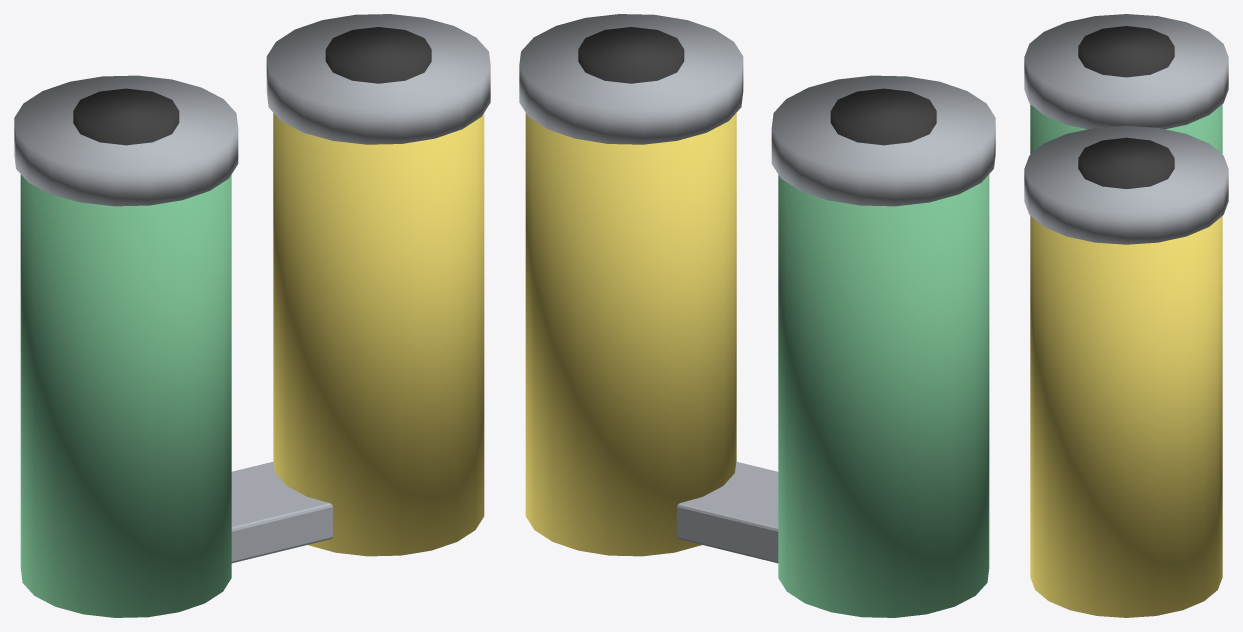
Rendered from trash_bin.glb.
The picture shows the model from 3 angles, left to right: view 1: azimuth 30°, elevation 25°; view 2: azimuth 150°, elevation 25°; view 3: azimuth 270°, elevation 25°; orthographic projection. The views are drawn at different scales.
Parts seen in each view (by area): view 1: bin_body0, bin_body1, bin_lid1, bin_lid0, bin_frame, bin_hole0, bin_hole1; view 2: bin_body0, bin_body1, bin_lid1, bin_lid0, bin_frame, bin_hole0, bin_hole1; view 3: bin_body1, bin_lid1, bin_lid0, bin_hole1, bin_hole0, bin_body0.
Part boxes in pixels (x1=…): bin_body0: x1=20, y1=174, x2=231, y2=617; bin_body1: x1=273, y1=113, x2=484, y2=556; bin_lid1: x1=266, y1=14, x2=490, y2=144; bin_lid0: x1=14, y1=75, x2=238, y2=206; bin_frame: x1=231, y1=461, x2=332, y2=563; bin_hole0: x1=73, y1=88, x2=179, y2=145; bin_hole1: x1=325, y1=27, x2=431, y2=83; bin_body0: x1=778, y1=174, x2=989, y2=617; bin_body1: x1=525, y1=113, x2=736, y2=556; bin_lid1: x1=519, y1=14, x2=743, y2=144; bin_lid0: x1=771, y1=75, x2=995, y2=206; bin_frame: x1=677, y1=461, x2=778, y2=563; bin_hole0: x1=830, y1=88, x2=936, y2=145; bin_hole1: x1=578, y1=27, x2=684, y2=83; bin_body1: x1=1030, y1=216, x2=1222, y2=617; bin_lid1: x1=1024, y1=125, x2=1228, y2=244; bin_lid0: x1=1024, y1=14, x2=1228, y2=129; bin_hole1: x1=1078, y1=137, x2=1174, y2=189; bin_hole0: x1=1078, y1=26, x2=1174, y2=77; bin_body0: x1=1030, y1=104, x2=1222, y2=154.
Size of the model in its own units: 0.78 by 0.77 by 0.34.
